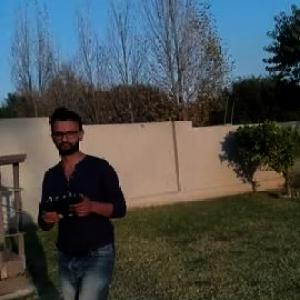follow: (39, 102, 139, 299)
